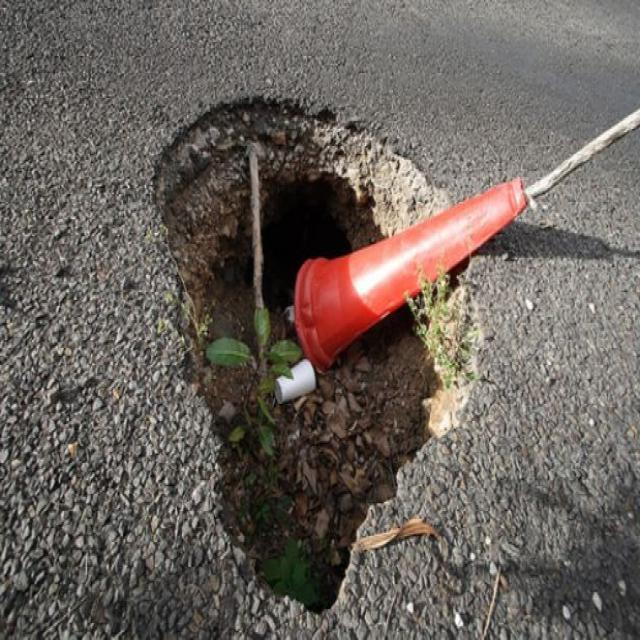Pothole: (147, 85, 486, 620)
